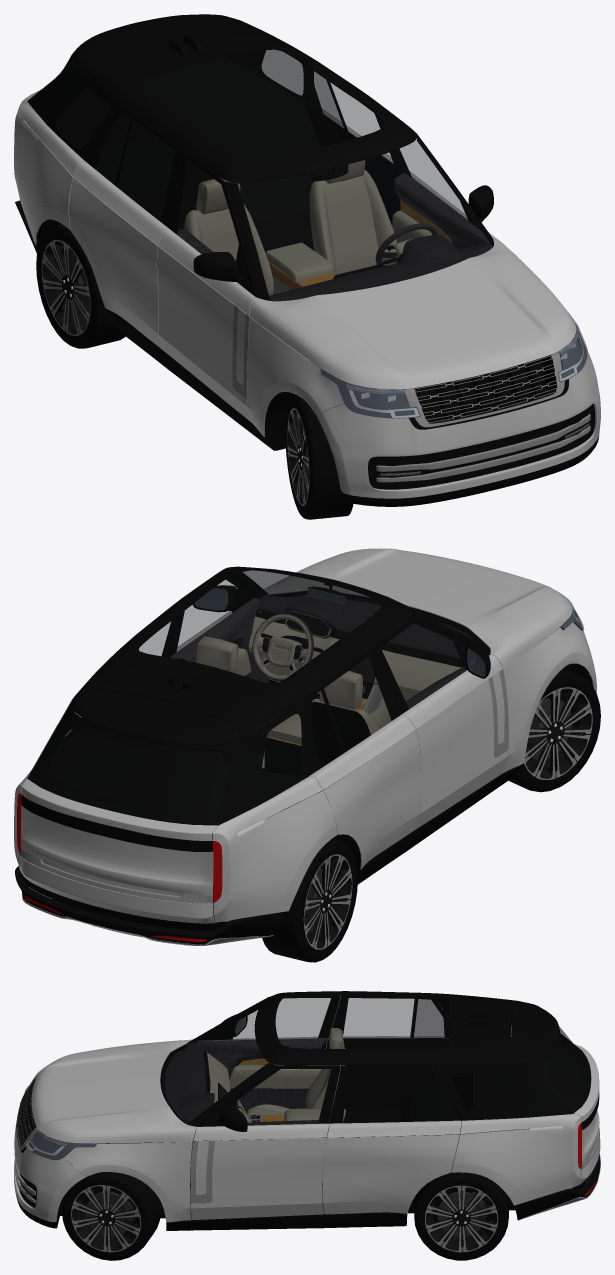
File: Range_Rover_Model.obj
3 views of the same model, one above another, from view 1: azimuth 30°, elevation 25°; view 2: azimuth 150°, elevation 25°; view 3: azimuth 270°, elevation 25° (orthographic). The views are drawn at different scales.
Parts seen in each view (by area): view 1: Body_ExteriorPaint, Body_WindowGlass, Body_MatteBlack, Body_BlackPaint, Interior_LightLeather, Door_FR_BodyPaint, Body_Bumper, Body_ChromeTrim, Interior_BlackLeather, Door_FR_WindowGlass, Wheel_FR_Tire, Headlamp_Glass (+14 smaller); view 2: Body_ExteriorPaint, Body_WindowGlass, Body_BlackPaint, Body_MatteBlack, Door_FR_BodyPaint, Interior_LightLeather, Body_Bumper, Door_FR_WindowGlass, Interior_BlackLeather, Wheel_RR_Tire, Wheel_FR_RimDark, Body_ChromeTrim (+17 smaller); view 3: Body_ExteriorPaint, Body_WindowGlass, Body_MatteBlack, Body_BlackPaint, Door_FL_BodyPaint, Door_FL_WindowGlass, Wheel_FL_Tire, Wheel_RL_Tire, Body_Bumper, Door_FR_BlackLeather, Interior_BlackLeather, Interior_LightLeather (+15 smaller).
Part boxes in pixels (box(x1,y1,x2,y2)): Body_ExteriorPaint: box(14, 90, 600, 498); Body_WindowGlass: box(27, 49, 493, 300); Body_MatteBlack: box(27, 50, 594, 501); Body_BlackPaint: box(59, 14, 493, 300); Interior_LightLeather: box(184, 160, 396, 359); Door_FR_BodyPaint: box(157, 229, 255, 422); Body_Bumper: box(15, 180, 599, 506); Body_ChromeTrim: box(36, 147, 590, 482); Interior_BlackLeather: box(269, 234, 492, 301); Door_FR_WindowGlass: box(177, 159, 241, 285); Wheel_FR_Tire: box(285, 394, 353, 519); Headlamp_Glass: box(320, 310, 588, 418); Body_ExteriorPaint: box(14, 548, 596, 923); Body_WindowGlass: box(27, 569, 468, 824); Body_BlackPaint: box(58, 566, 490, 775); Body_MatteBlack: box(27, 591, 592, 944); Door_FR_BodyPaint: box(402, 655, 508, 830); Interior_LightLeather: box(196, 616, 460, 768); Body_Bumper: box(15, 673, 592, 945); Door_FR_WindowGlass: box(381, 624, 475, 708); Interior_BlackLeather: box(257, 595, 490, 660); Wheel_RR_Tire: box(262, 838, 357, 962); Wheel_FR_RimDark: box(525, 688, 591, 778); Body_ChromeTrim: box(21, 849, 273, 945); Body_ExteriorPaint: box(14, 1036, 600, 1222); Body_WindowGlass: box(165, 995, 590, 1123); Body_MatteBlack: box(17, 997, 590, 1229); Body_BlackPaint: box(187, 991, 559, 1126); Door_FL_BodyPaint: box(191, 1123, 328, 1220); Door_FL_WindowGlass: box(233, 1069, 330, 1125); Wheel_FL_Tire: box(62, 1172, 160, 1260); Wheel_RL_Tire: box(414, 1172, 508, 1260); Body_Bumper: box(15, 1113, 600, 1230); Door_FR_BlackLeather: box(196, 1038, 328, 1113); Interior_BlackLeather: box(164, 1042, 255, 1124); Interior_LightLeather: box(207, 1028, 345, 1182).
Bounding box in the file's own units: 1.36 × 1.15 × 3.12.
28 materials, 6 textured.
